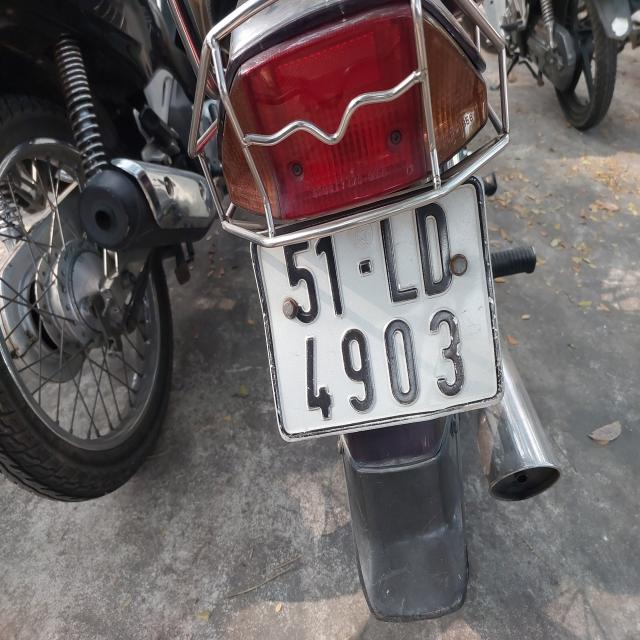0: (382, 313, 415, 405)
1: (313, 226, 351, 318)
3: (425, 307, 465, 398)
5: (378, 210, 418, 306), (282, 240, 318, 327)
9: (342, 324, 374, 418)
D: (416, 202, 457, 300), (304, 332, 335, 418)
